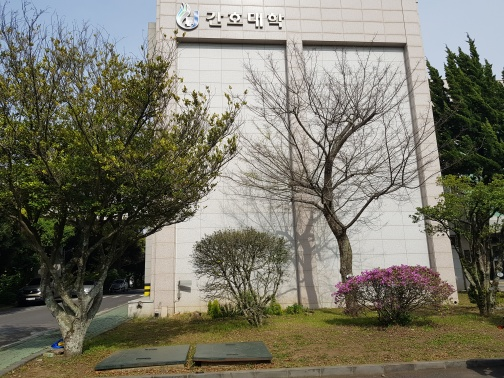College of Nursing: (143, 7, 486, 302), (169, 7, 291, 45)
